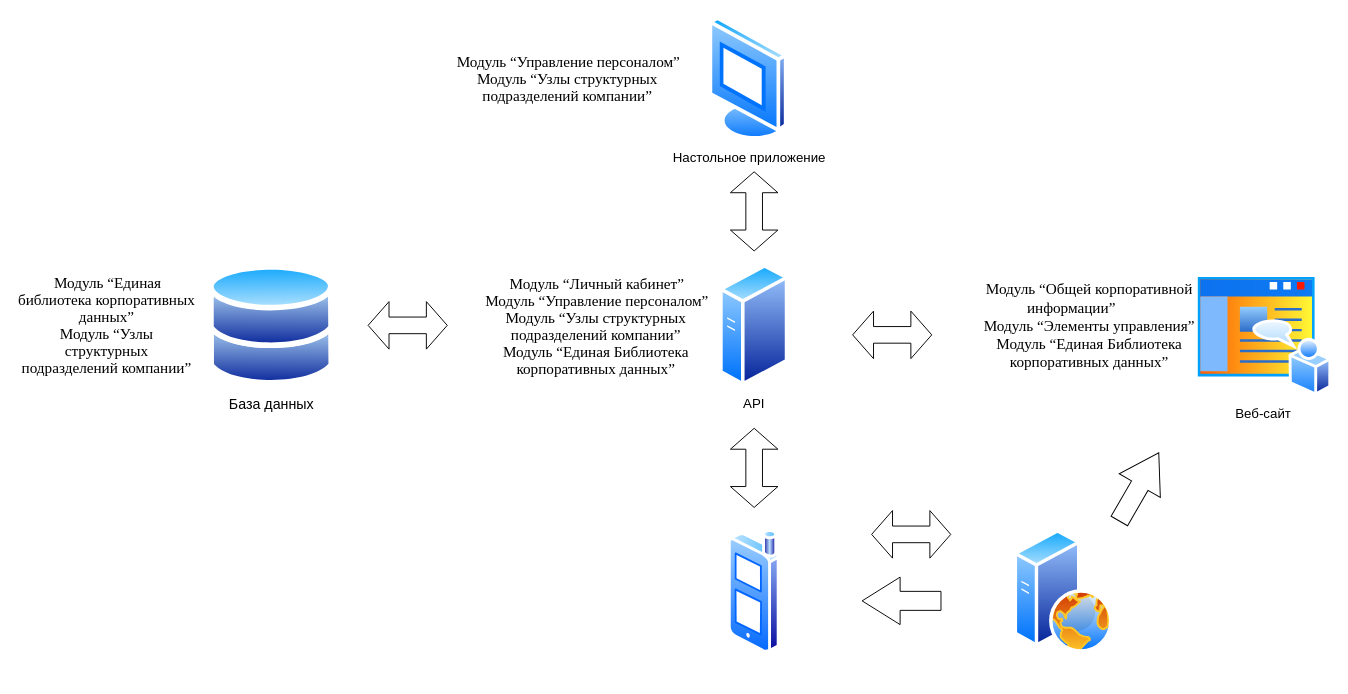
The diagram is 1348 pixels wide and 694 high, and some of its shapes have lost their labels. Each missing label, with the centre of its shape:
Внешнее API: the point at 1063,591
Мобильное приложение: the point at 754,591
